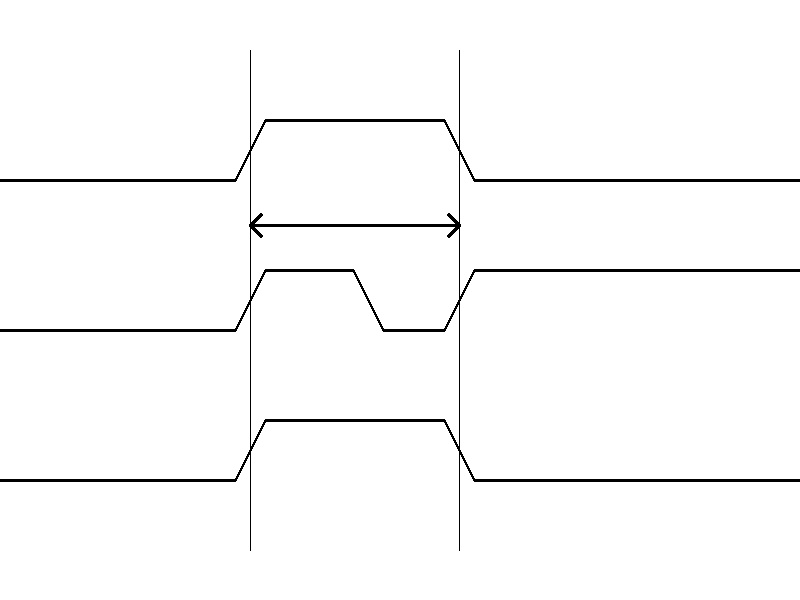double_arrow: (250, 210, 459, 240)
